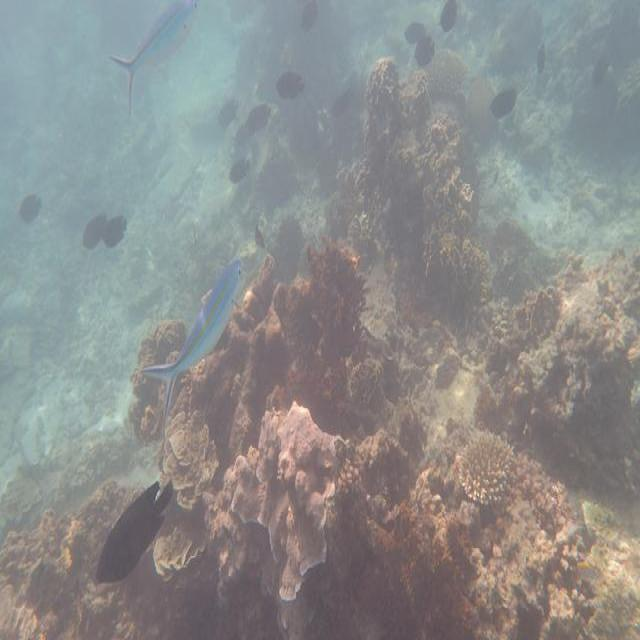fish: (142, 259, 240, 437), (109, 3, 193, 118), (96, 480, 174, 582), (457, 428, 514, 505), (102, 215, 127, 248), (83, 215, 106, 250), (491, 90, 516, 118), (277, 73, 304, 98), (246, 105, 271, 128), (19, 195, 41, 221)
